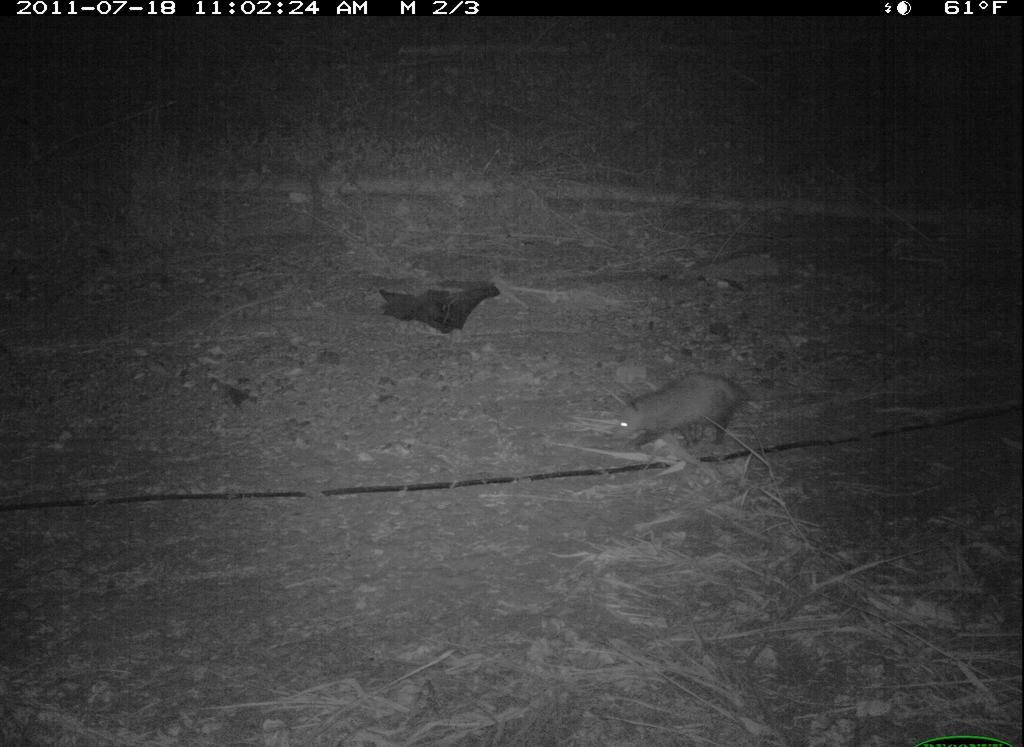opossum: (598, 365, 836, 460)
